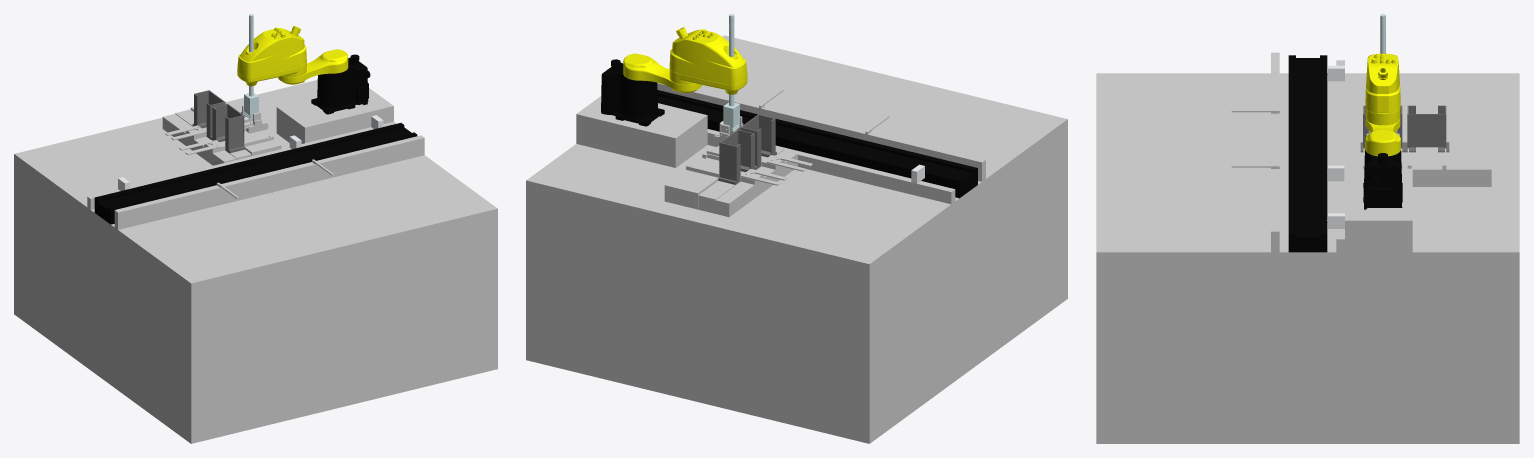
Rendered from urdf_colored_metallic.glb.
The picture shows the model from 3 angles, left to right: view 1: azimuth 30°, elevation 25°; view 2: azimuth 150°, elevation 25°; view 3: azimuth 270°, elevation 25°; orthographic projection. The views are drawn at different scales.
Visible parts, largest first — view 1: base_link.stl, InP_Guide_L1.stl, InP_SCARA_Mount_v21.stl, InP_Guide_L_add_v31.stl, 3D_SR-3IA_Final_J2_ARM_UNIT_SV_v11.stl, InP_Conveyor_v21.stl, 3D_SR-3IA_Final_J1_BASE_UNIT_BackCon_SV_v11.stl, Guide_L_v11.stl, Guide_R_v1_11.stl, J1_ARM_UNIT_v11.stl, InP_Guide_R1.stl, Pusher_Body_v31.stl (+1 smaller); view 2: base_link.stl, InP_SCARA_Mount_v21.stl, InP_Conveyor_v21.stl, 3D_SR-3IA_Final_J2_ARM_UNIT_SV_v11.stl, InP_Guide_L_add_v31.stl, InP_Guide_R1.stl, 3D_SR-3IA_Final_J1_BASE_UNIT_BackCon_SV_v11.stl, Guide_R_v1_11.stl, Pusher_Body_v31.stl, J1_ARM_UNIT_v11.stl, Guide_L_v11.stl, Shelf_receiver_bottom_v11.stl (+1 smaller); view 3: base_link.stl, InP_Conveyor_v21.stl, InP_SCARA_Mount_v21.stl, 3D_SR-3IA_Final_J2_ARM_UNIT_SV_v11.stl, Shelf_receiver_bottom_v11.stl, 3D_SR-3IA_Final_J1_BASE_UNIT_BackCon_SV_v11.stl, InP_Guide_L_add_v31.stl, Guide_L_v11.stl, Guide_R_v1_11.stl, TowerBodyM_v21.stl, InP_Guide_R1.stl, Shelf_Container_Body_v31.stl (+3 smaller).
Boxes of the visible parts, x1,y1,x2,y2 form: base_link.stl: (14, 80, 497, 443); InP_Guide_L1.stl: (114, 144, 424, 229); InP_SCARA_Mount_v21.stl: (276, 88, 393, 143); InP_Guide_L_add_v31.stl: (114, 135, 424, 218); 3D_SR-3IA_Final_J2_ARM_UNIT_SV_v11.stl: (237, 26, 306, 86); InP_Conveyor_v21.stl: (94, 127, 411, 224); 3D_SR-3IA_Final_J1_BASE_UNIT_BackCon_SV_v11.stl: (311, 54, 370, 114); Guide_L_v11.stl: (94, 123, 404, 201); Guide_R_v1_11.stl: (107, 132, 417, 211); J1_ARM_UNIT_v11.stl: (278, 49, 348, 84); InP_Guide_R1.stl: (87, 121, 396, 209); Pusher_Body_v31.stl: (162, 114, 236, 165); base_link.stl: (526, 35, 1067, 443); InP_SCARA_Mount_v21.stl: (576, 96, 707, 167); InP_Conveyor_v21.stl: (657, 96, 977, 198); 3D_SR-3IA_Final_J2_ARM_UNIT_SV_v11.stl: (669, 27, 747, 94); InP_Guide_L_add_v31.stl: (657, 82, 985, 169); InP_Guide_R1.stl: (707, 129, 955, 204); 3D_SR-3IA_Final_J1_BASE_UNIT_BackCon_SV_v11.stl: (601, 59, 664, 126); Guide_R_v1_11.stl: (657, 90, 977, 172); Pusher_Body_v31.stl: (715, 150, 797, 216); J1_ARM_UNIT_v11.stl: (623, 53, 701, 92); Guide_L_v11.stl: (707, 116, 962, 183); Shelf_receiver_bottom_v11.stl: (664, 145, 719, 195); base_link.stl: (1096, 73, 1519, 443); InP_Conveyor_v21.stl: (1288, 58, 1327, 252); InP_SCARA_Mount_v21.stl: (1345, 168, 1412, 252); 3D_SR-3IA_Final_J2_ARM_UNIT_SV_v11.stl: (1365, 53, 1400, 125); Shelf_receiver_bottom_v11.stl: (1345, 152, 1491, 172); 3D_SR-3IA_Final_J1_BASE_UNIT_BackCon_SV_v11.stl: (1363, 150, 1402, 209); InP_Guide_L_add_v31.stl: (1271, 52, 1279, 239); Guide_L_v11.stl: (1320, 55, 1327, 236); Guide_R_v1_11.stl: (1288, 55, 1295, 236); TowerBodyM_v21.stl: (1407, 114, 1446, 147); InP_Guide_R1.stl: (1336, 60, 1344, 252); Shelf_Container_Body_v31.stl: (1412, 172, 1491, 186).
Size of the model in its own units: 1.5 by 1.39 by 1.5.
